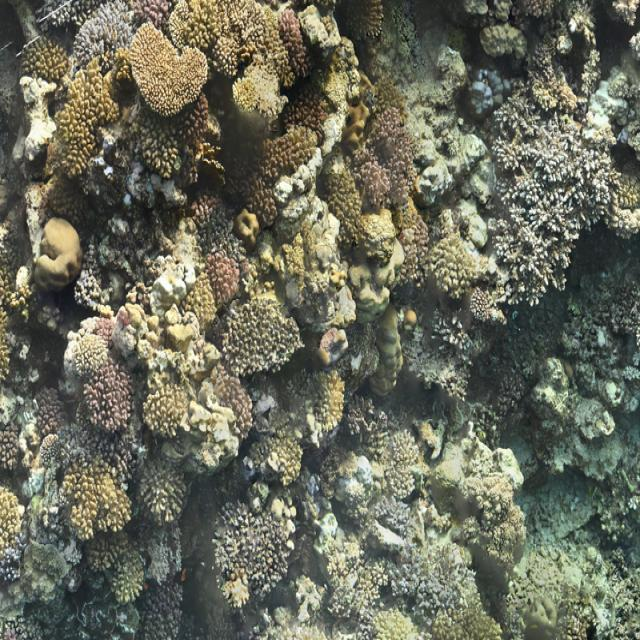Bleached Coral: (494, 118, 626, 290), (379, 555, 468, 623), (580, 58, 638, 149), (30, 426, 121, 474), (68, 0, 136, 63), (150, 256, 203, 330), (141, 524, 191, 590), (342, 440, 386, 505), (464, 64, 516, 117), (368, 493, 414, 531), (0, 534, 26, 592), (252, 388, 278, 435)
Healthy Coral: (138, 24, 225, 112), (57, 74, 120, 170), (80, 352, 134, 424), (54, 482, 133, 526), (256, 131, 326, 172), (435, 234, 480, 286), (207, 248, 244, 306), (138, 374, 174, 429)
